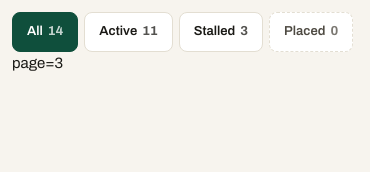
Test: FilterChips › drops the page cursor when the filter changes
The width and height of the screenshot is (370, 172).
Click the button "Stalled 3" at (221, 32), box x1=179 y1=12 x2=263 y2=52
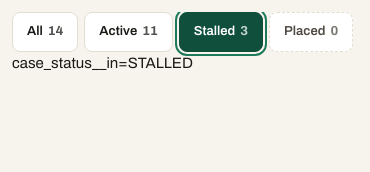
Expected: the text with test id "query" no longer shows "page=3", x1=12 y1=55 x2=193 y2=71
